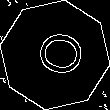O_W: (26, 29, 84, 81)
